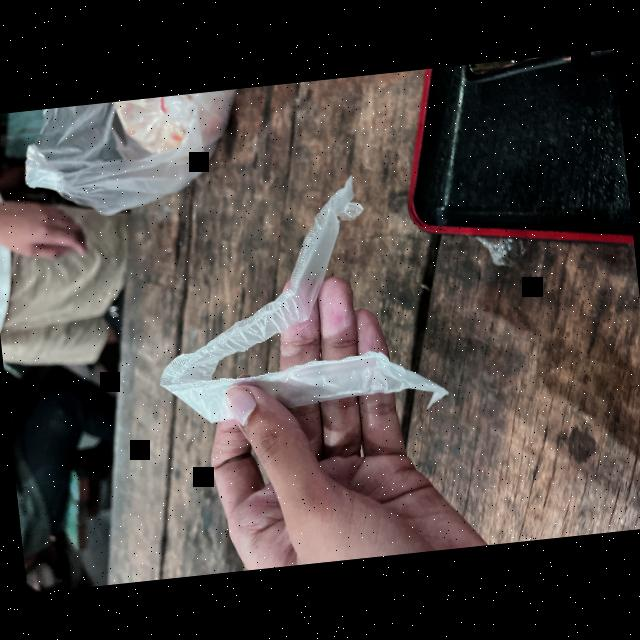plastic_bag: (12, 88, 244, 220)
scrap_plastic: (137, 176, 455, 445)
